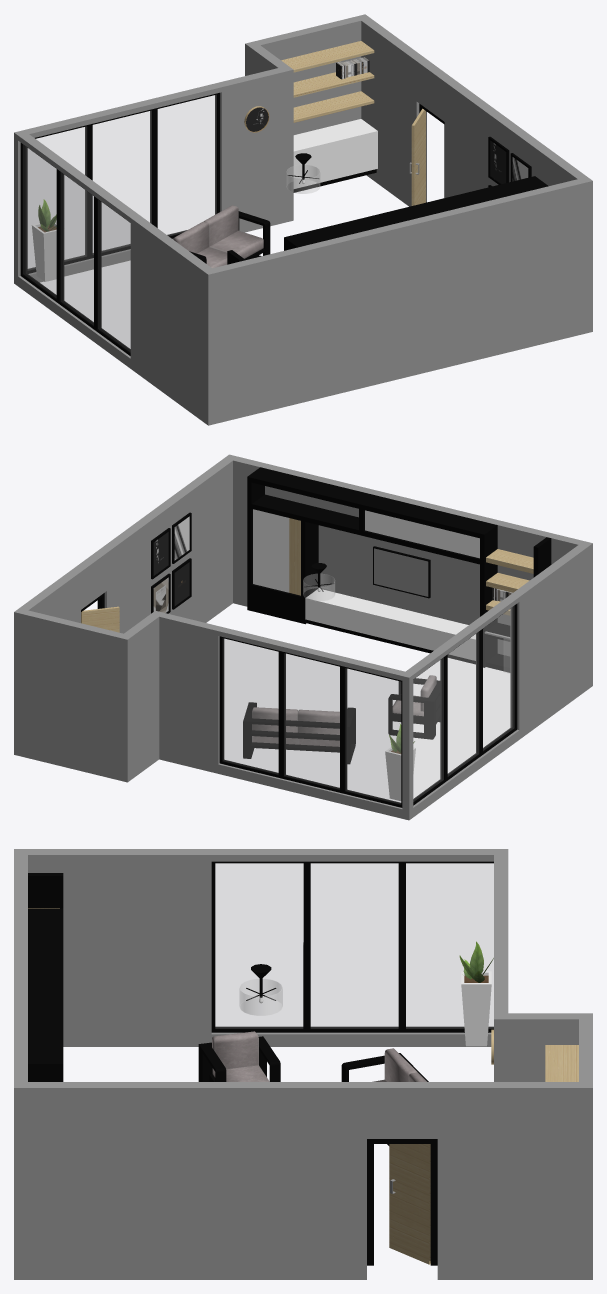
File: livingroom_lev4.glb
3 views of the same model, one above another, from view 1: azimuth 30°, elevation 25°; view 2: azimuth 150°, elevation 25°; view 3: azimuth 270°, elevation 25° (orthographic). The views are drawn at different scales.
Bounding box in the file's own units: 293 × 111 × 300.
Materials: 18 (14 with a texture image).
